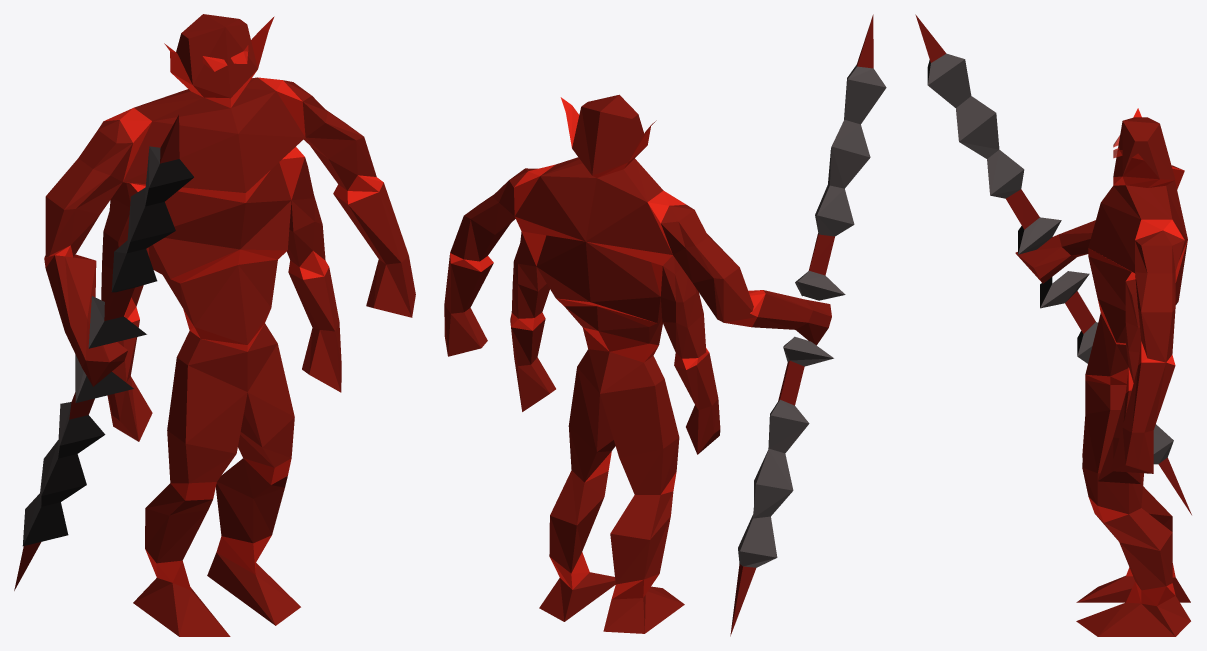
File: tzhaar-fight-pit.gltf
The picture shows the model from 3 angles, left to right: view 1: azimuth 30°, elevation 25°; view 2: azimuth 150°, elevation 25°; view 3: azimuth 270°, elevation 25°; orthographic projection. The views are drawn at different scales.
Size of the model in its own units: 122 by 187 by 89.
2 materials, 2 textured.
